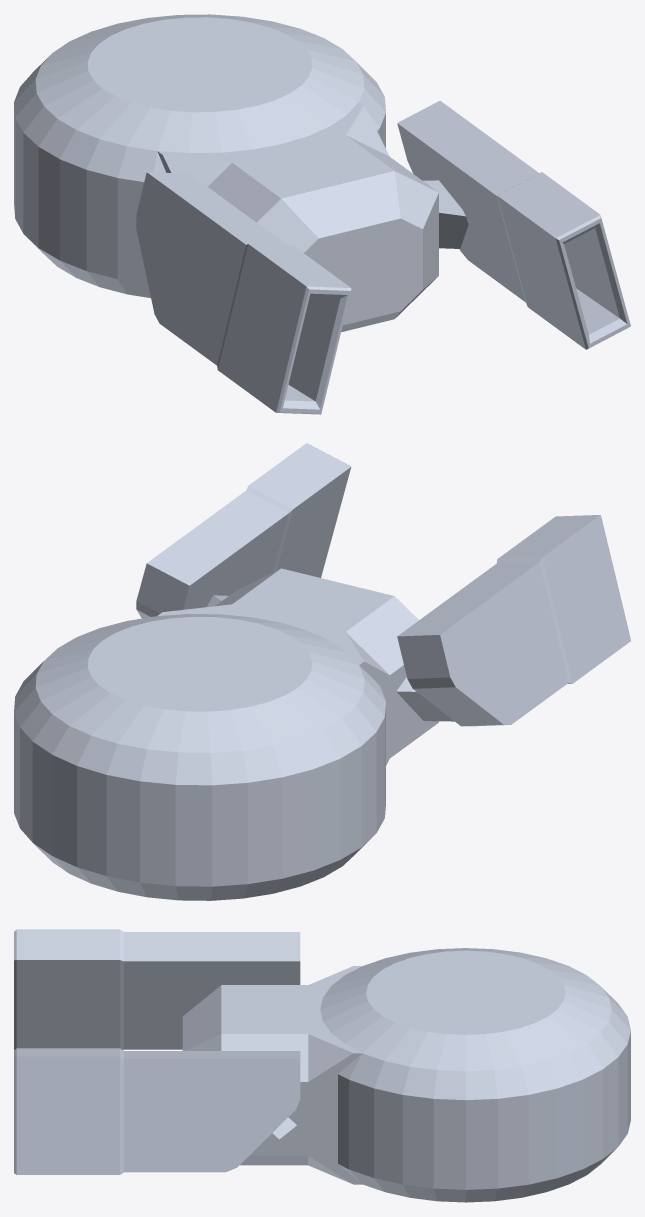
The model's file is AssaultTower.fbx.
3 views of the same model, one above another, from view 1: azimuth 30°, elevation 25°; view 2: azimuth 150°, elevation 25°; view 3: azimuth 270°, elevation 25° (orthographic). The views are drawn at different scales.
Visible parts, largest first — view 1: Back, Shaft.001, Body, Shaft, Connector.001; view 2: Back, Shaft.001, Shaft, Body, Connector; view 3: Back, Shaft, Shaft.001, Body.
Part boxes in pixels (x1,y1,x2,y2): Back: (14, 14, 385, 297); Shaft.001: (136, 172, 351, 414); Body: (157, 102, 438, 332); Shaft: (397, 100, 630, 349); Connector.001: (423, 180, 468, 248); Back: (14, 614, 385, 900); Shaft.001: (397, 515, 630, 726); Shaft: (136, 443, 351, 618); Body: (158, 568, 438, 765); Connector: (396, 677, 454, 721); Back: (320, 948, 630, 1202); Shaft: (14, 1048, 300, 1174); Shaft.001: (14, 929, 300, 1049); Body: (182, 966, 362, 1184).
Bounding box in the file's own units: 93.17 × 46.7 × 158.
